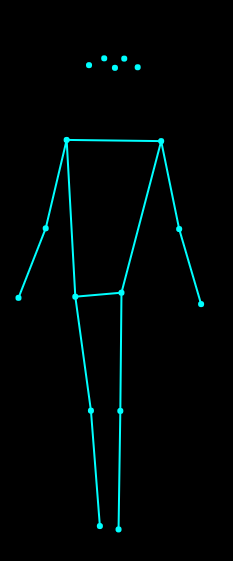mountain: (12, 48, 207, 533)
